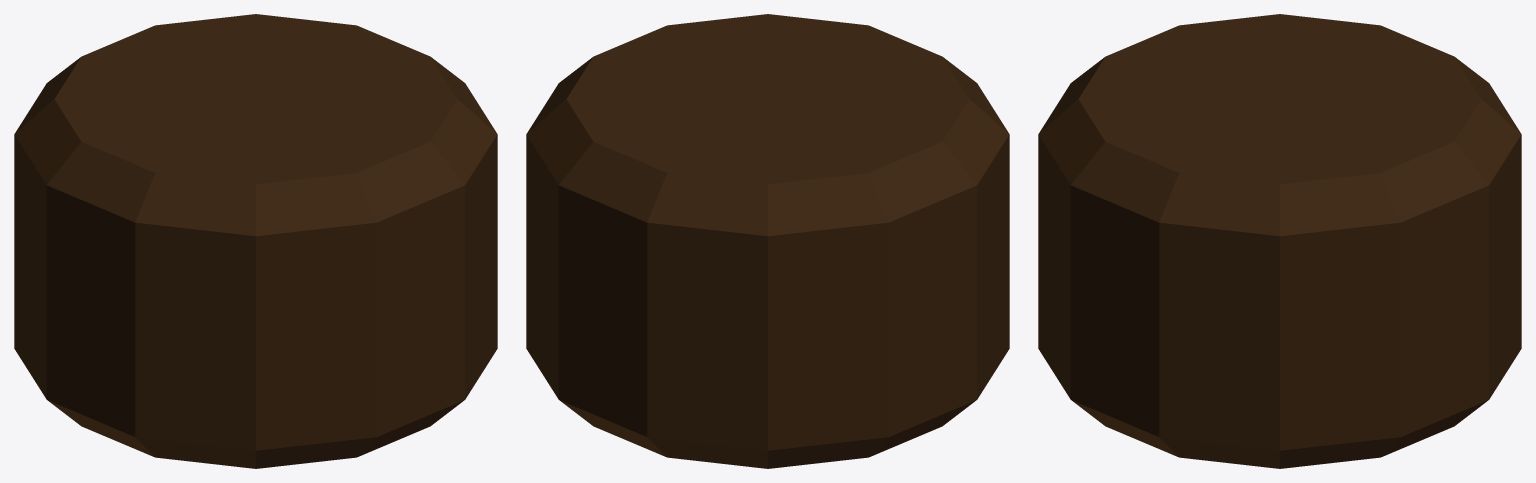
File: totem-buffalo.glb
3 renders of one model, left to right at view 1: azimuth 30°, elevation 25°; view 2: azimuth 150°, elevation 25°; view 3: azimuth 270°, elevation 25°, orthographic.
Visible parts, largest first — view 1: buffalo-totem-col; view 2: buffalo-totem-col; view 3: buffalo-totem-col.
Part boxes in pixels (box(x1,y1,x2,y2)): buffalo-totem-col: box(14, 14, 497, 468); buffalo-totem-col: box(526, 14, 1009, 468); buffalo-totem-col: box(1038, 14, 1521, 468).
Size of the model in its own units: 2 by 1.3 by 2.
